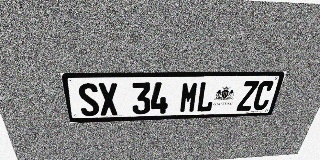3: (132, 82, 151, 115)
4: (150, 82, 169, 114)
C: (251, 81, 275, 110)
L: (196, 81, 217, 112)
M: (179, 82, 199, 113)
S: (77, 83, 100, 116)
X: (97, 83, 119, 116)
Z: (236, 81, 259, 111)
